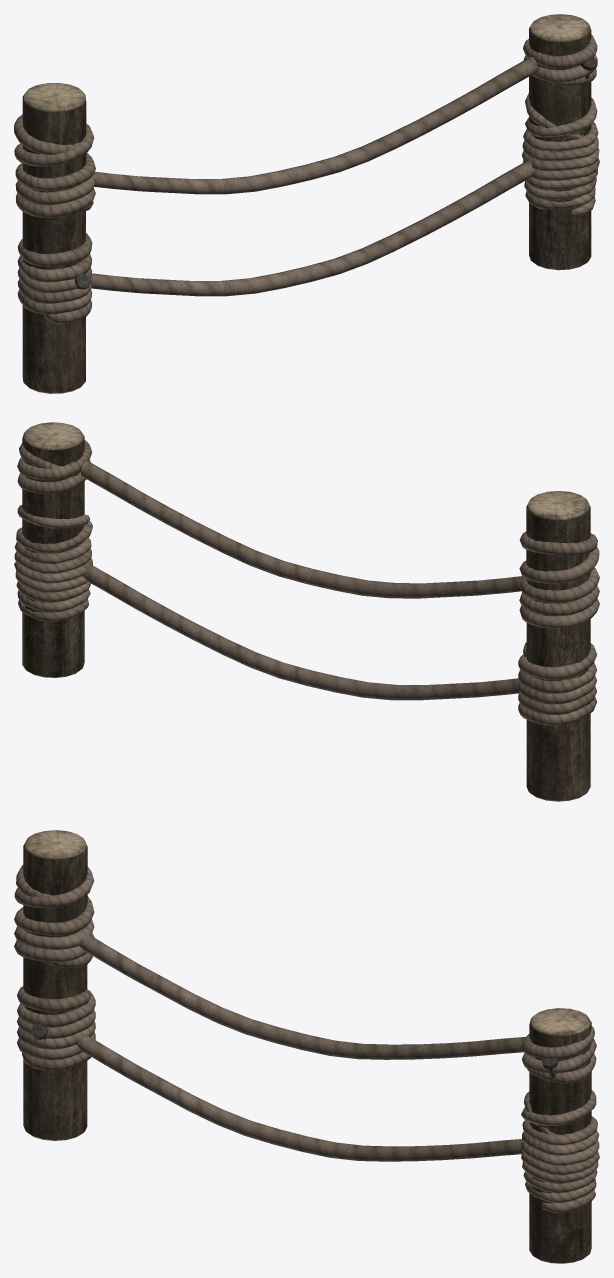
File: rope_fence01.fbx
3 renders of one model, top to bottom at view 1: azimuth 30°, elevation 25°; view 2: azimuth 150°, elevation 25°; view 3: azimuth 330°, elevation 25°, orthographic.
Visible parts, largest first — view 1: rope_fence01; view 2: rope_fence01; view 3: rope_fence01.
Part boxes in pixels (x1,y1,x2,y2): rope_fence01: (14, 14, 599, 393); rope_fence01: (14, 422, 599, 801); rope_fence01: (14, 830, 599, 1263).
Bounding box in the file's own units: 288 × 137 × 39.12.
